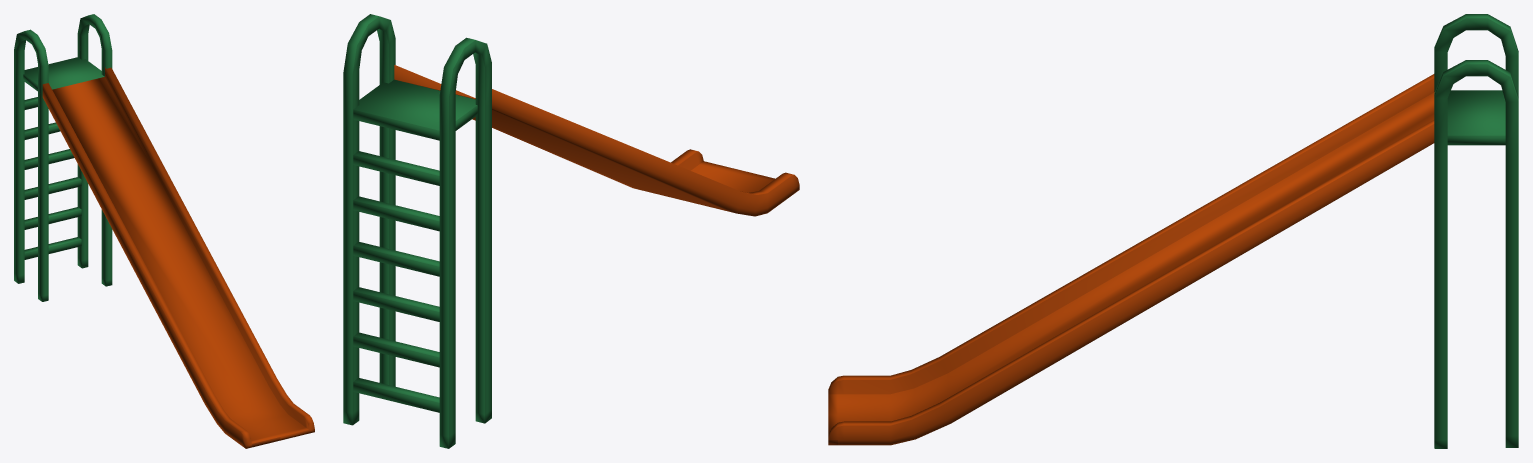
The model's file is ParkSlide_Medium.fbx.
3 renders of one model, left to right at view 1: azimuth 30°, elevation 25°; view 2: azimuth 150°, elevation 25°; view 3: azimuth 270°, elevation 25°, orthographic. The views are drawn at different scales.
Parts seen in each view (by area): view 1: ParkSlide_Medium; view 2: ParkSlide_Medium; view 3: ParkSlide_Medium.
Boxes of the visible parts, x1,y1,x2,y2 form: ParkSlide_Medium: (14,14,314,448); ParkSlide_Medium: (343,14,799,448); ParkSlide_Medium: (828,14,1518,448).
Size of the model in its own units: 66.74 by 236 by 384.
